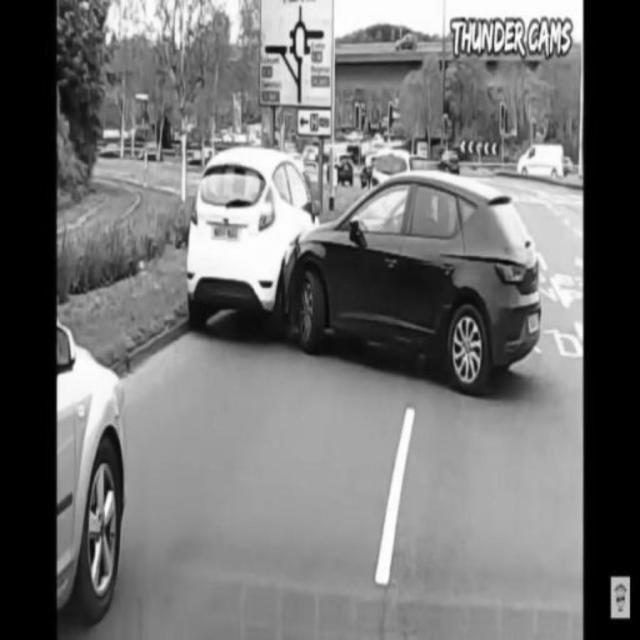accident: (188, 144, 544, 385)
vehicle: (517, 145, 571, 179)
